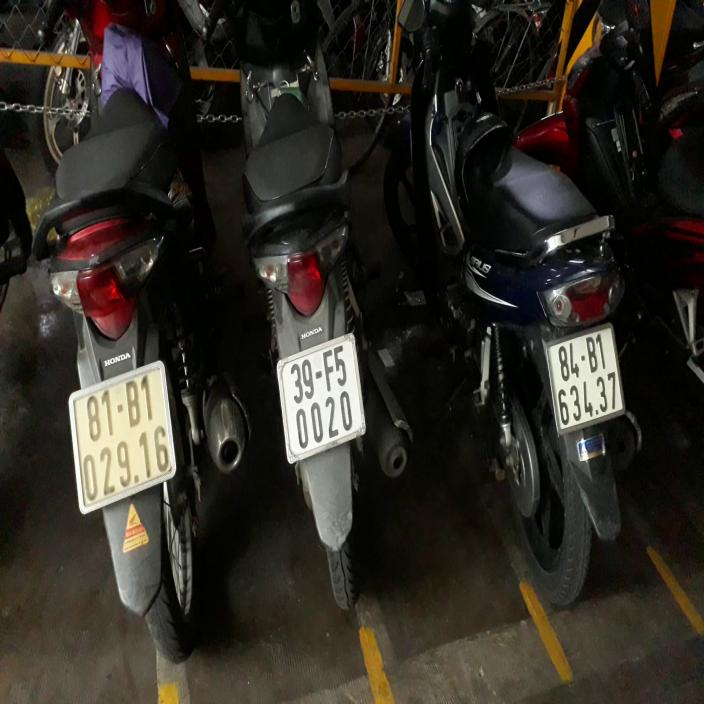numplate: (59, 360, 187, 508), (272, 332, 370, 464), (545, 335, 637, 432)
